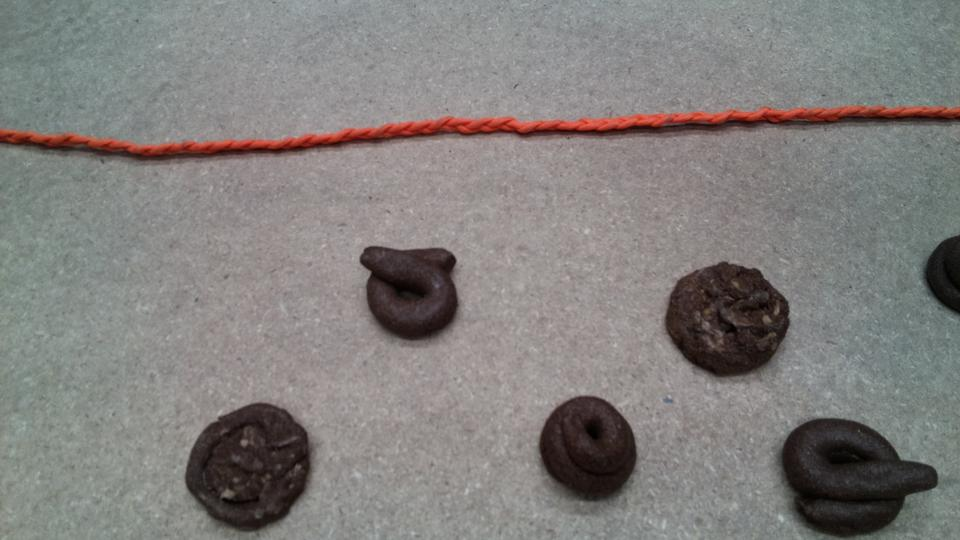poop: (779, 416, 942, 538), (182, 398, 314, 534), (664, 258, 796, 380), (536, 391, 642, 504), (354, 238, 464, 343), (921, 233, 960, 313)
rope: (1, 98, 958, 163)
